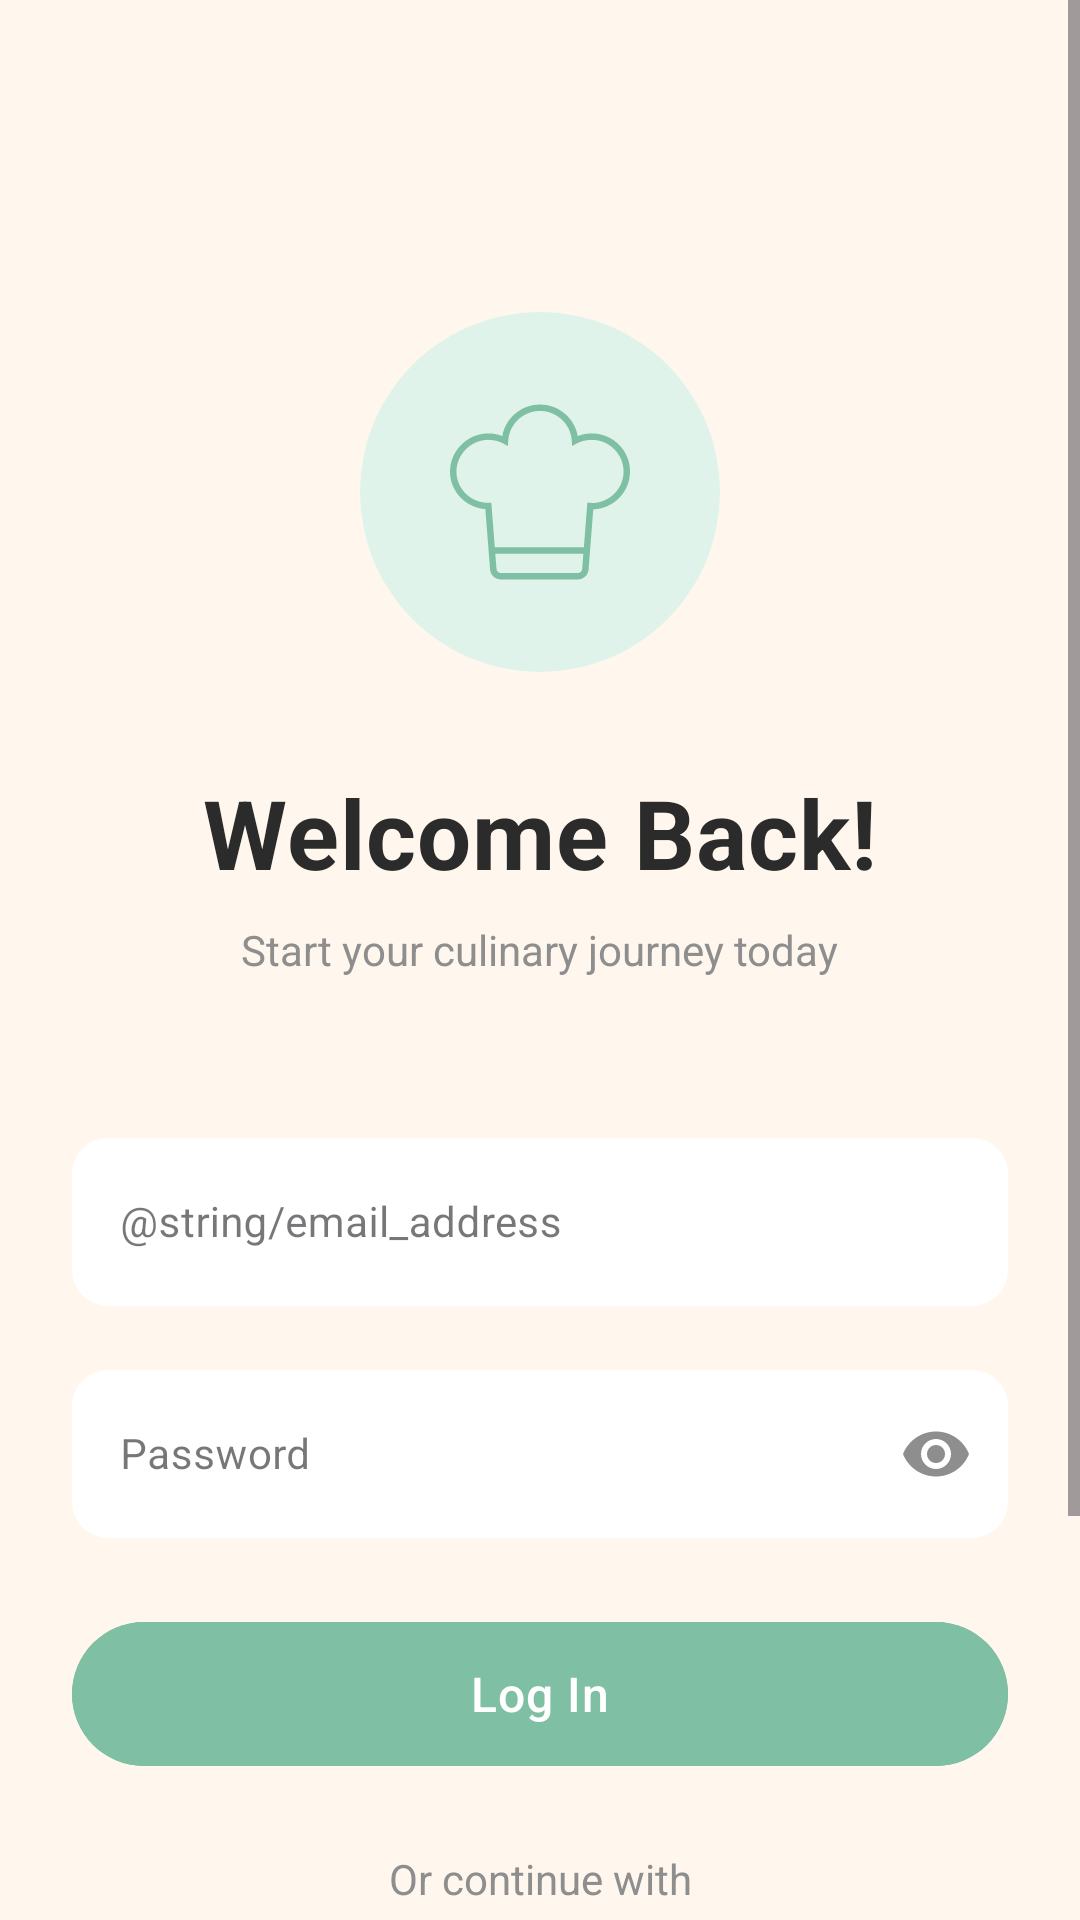

Where to tap for icons on this 1080×1920 app screen, as [x,y]:
chef hat: [540,492]
